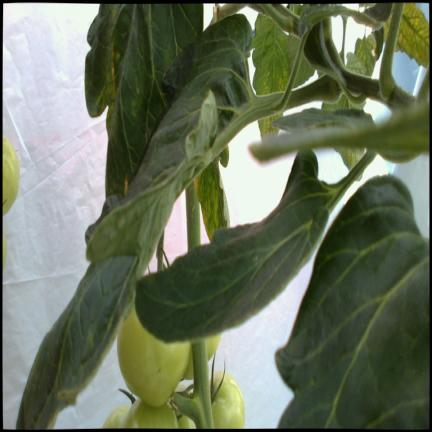MainStem: (192, 340, 214, 429)
tomato: (117, 308, 190, 406), (212, 371, 244, 427), (183, 334, 221, 379), (121, 398, 178, 427), (3, 136, 19, 214), (176, 382, 196, 428), (102, 405, 129, 428)
